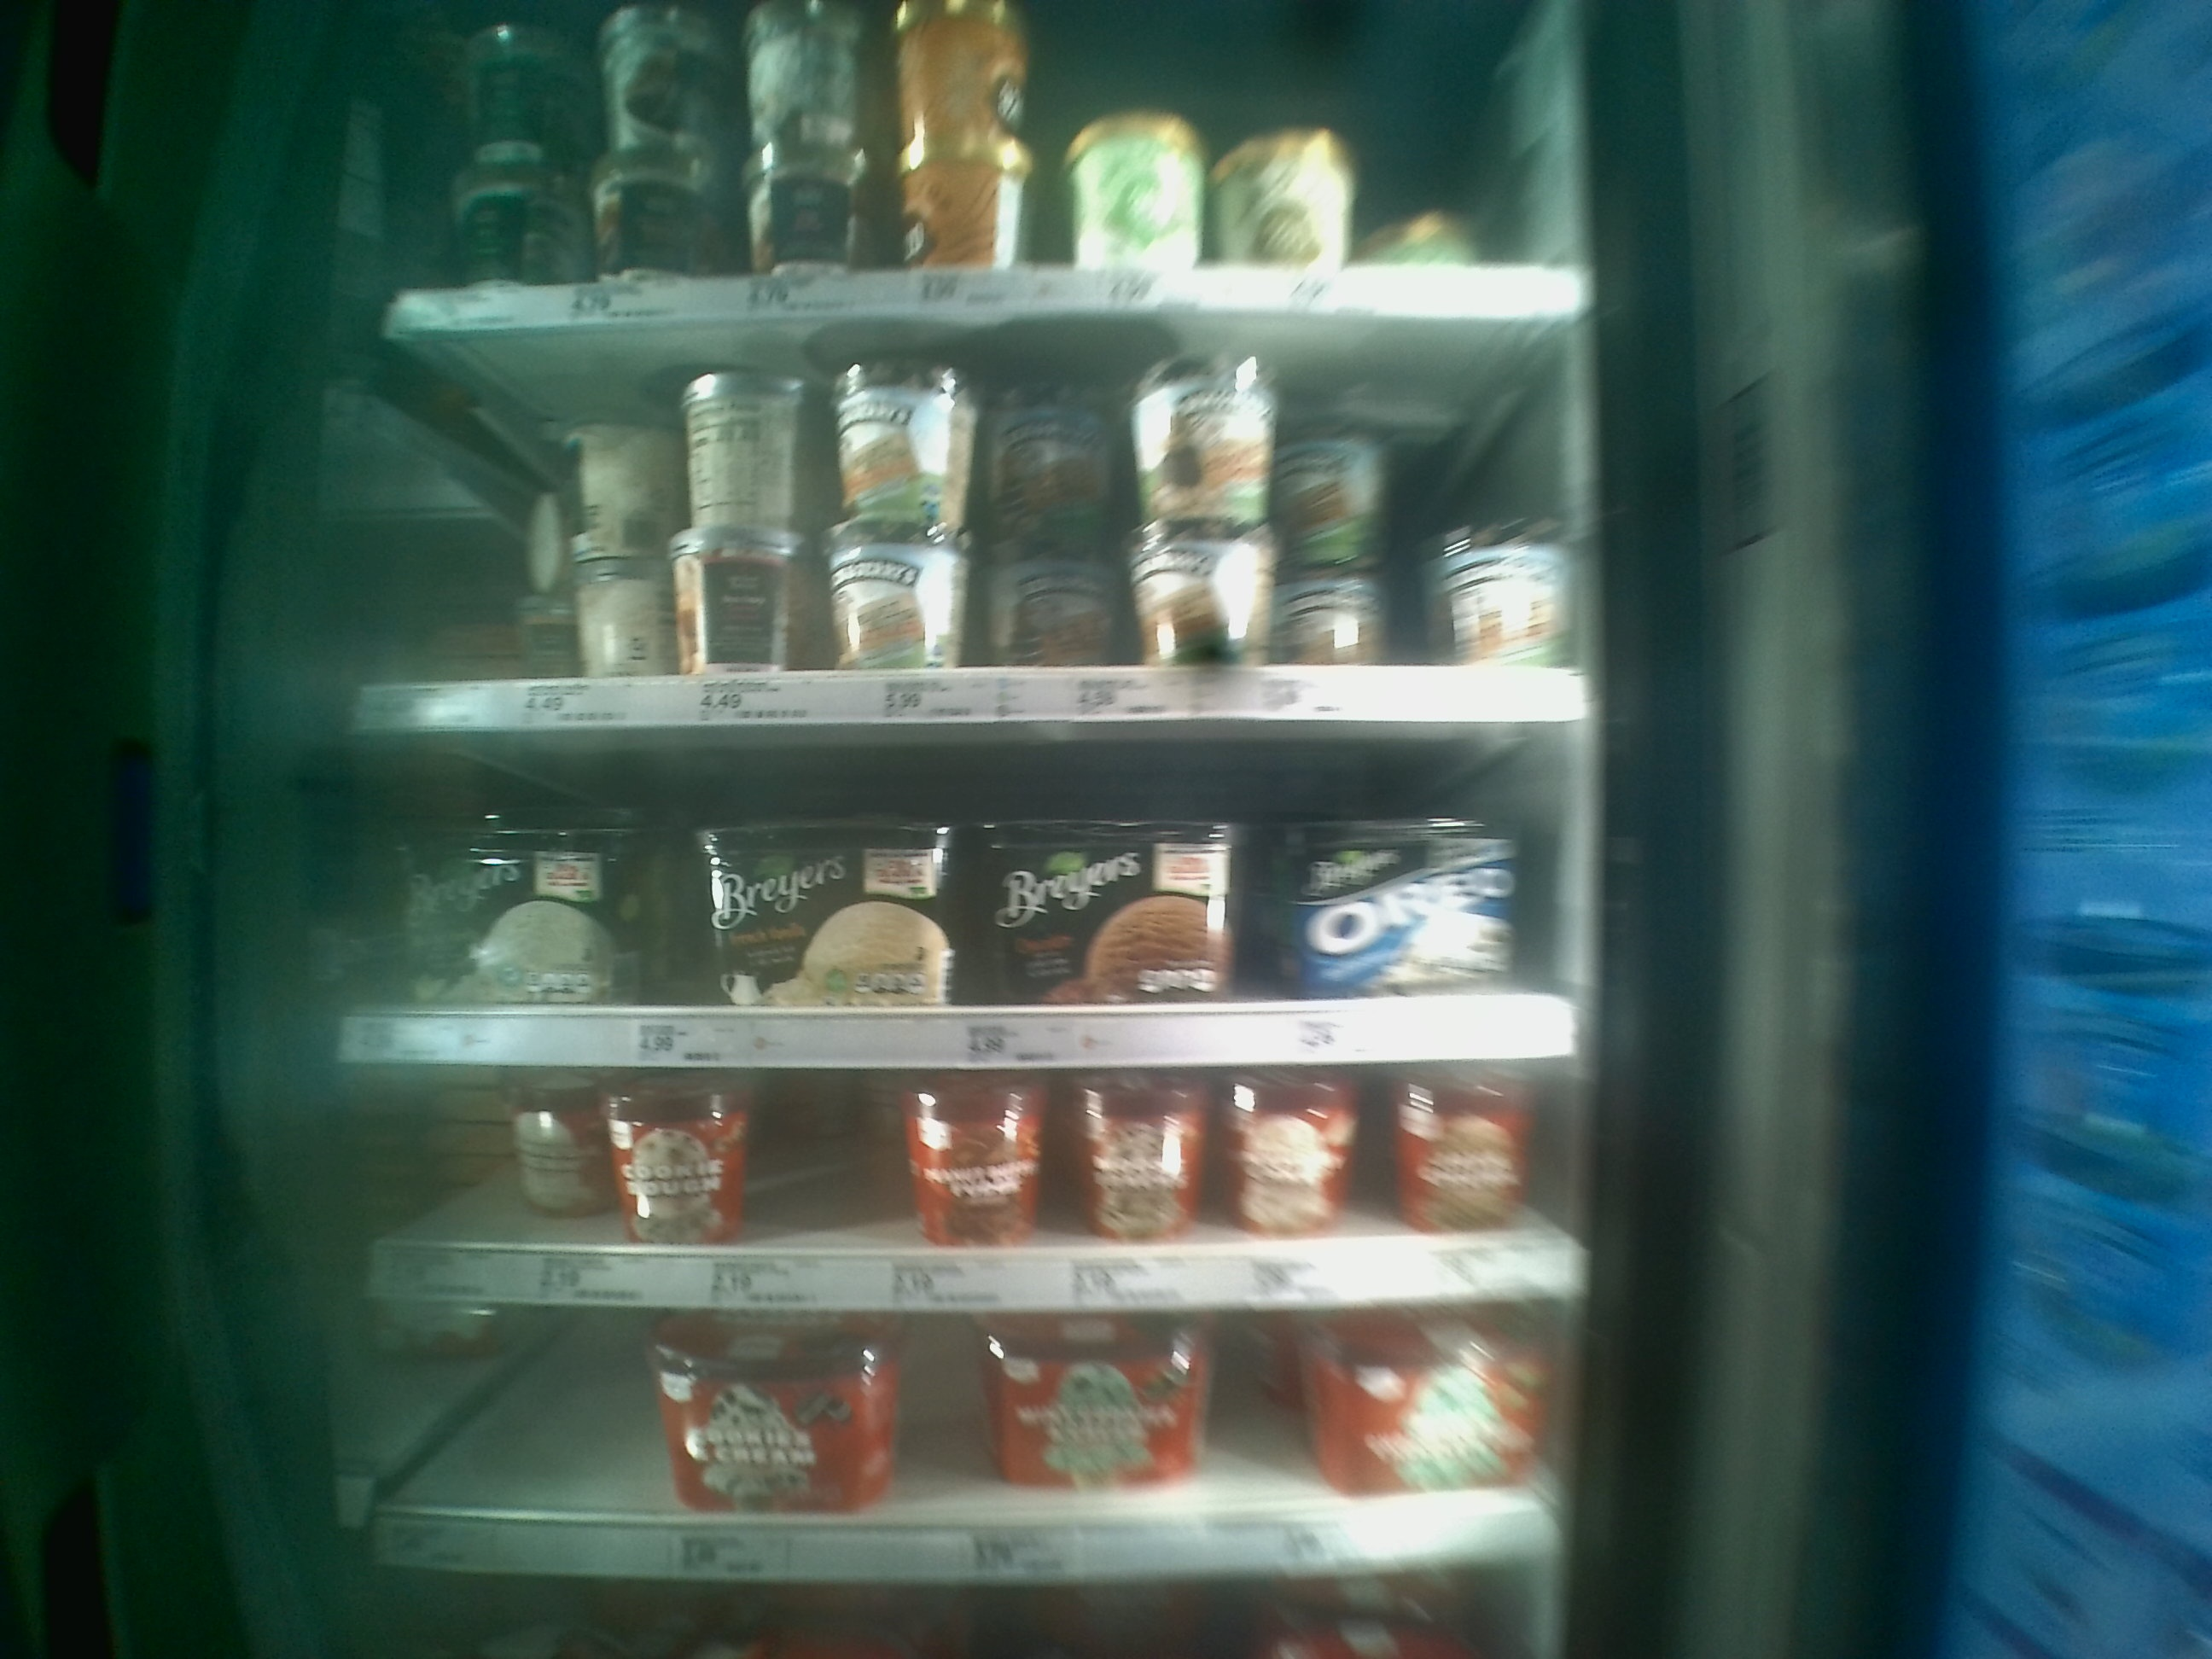ice-cream-shelf: (348, 338, 1562, 725), (341, 730, 1562, 1058), (355, 1058, 1576, 1305)
